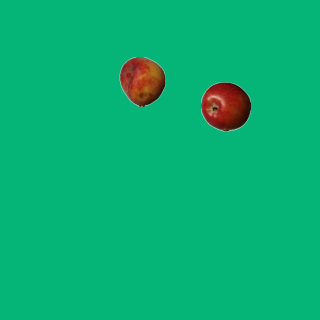Apple Braeburn: (200, 81, 250, 131)
Peach: (117, 56, 167, 106)
